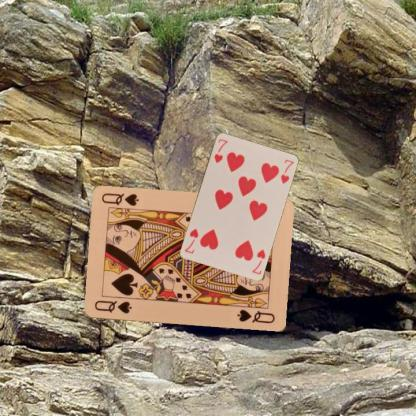7h: (249, 246, 266, 276), (211, 136, 229, 164)
Qs: (92, 298, 132, 315)
